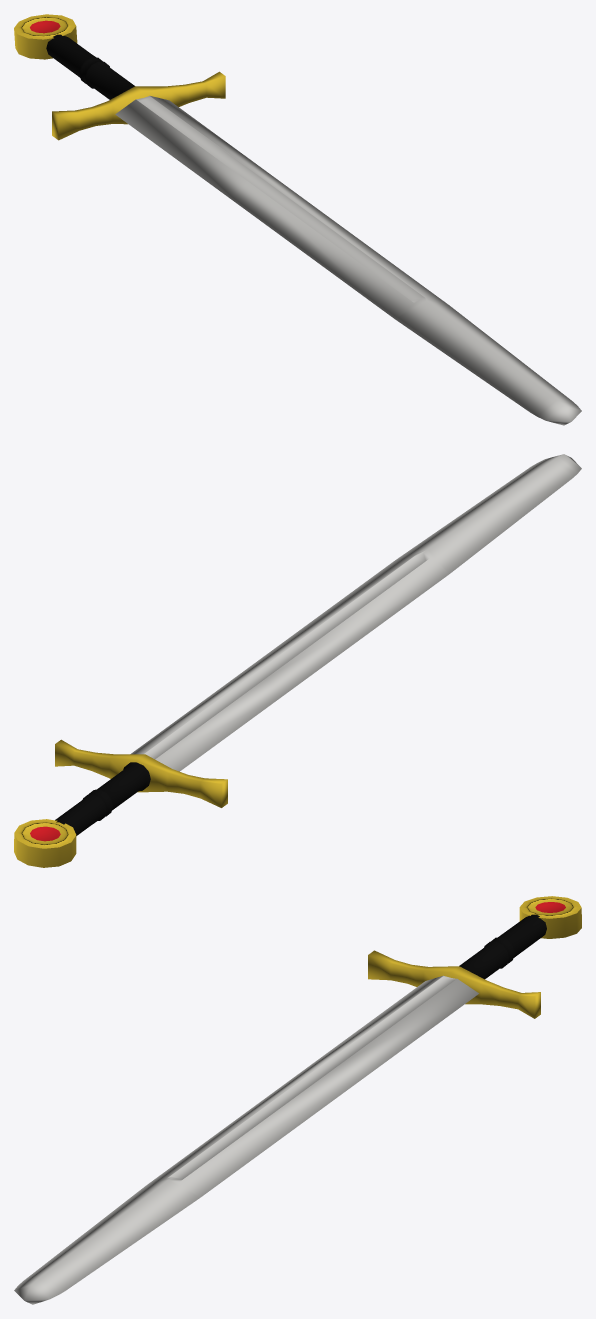
The model's file is SWORDFINALE.fbx.
3 views of the same model, one above another, from view 1: azimuth 30°, elevation 25°; view 2: azimuth 150°, elevation 25°; view 3: azimuth 330°, elevation 25° (orthographic).
Visible parts, largest first — view 1: Cylinder; view 2: Cylinder; view 3: Cylinder.
Part boxes in pixels (left/top/right/bottom): Cylinder: left=14, top=14, right=581, bottom=425; Cylinder: left=14, top=454, right=581, bottom=867; Cylinder: left=14, top=896, right=581, bottom=1304.
Size of the model in its own units: 825 by 151 by 4639.
